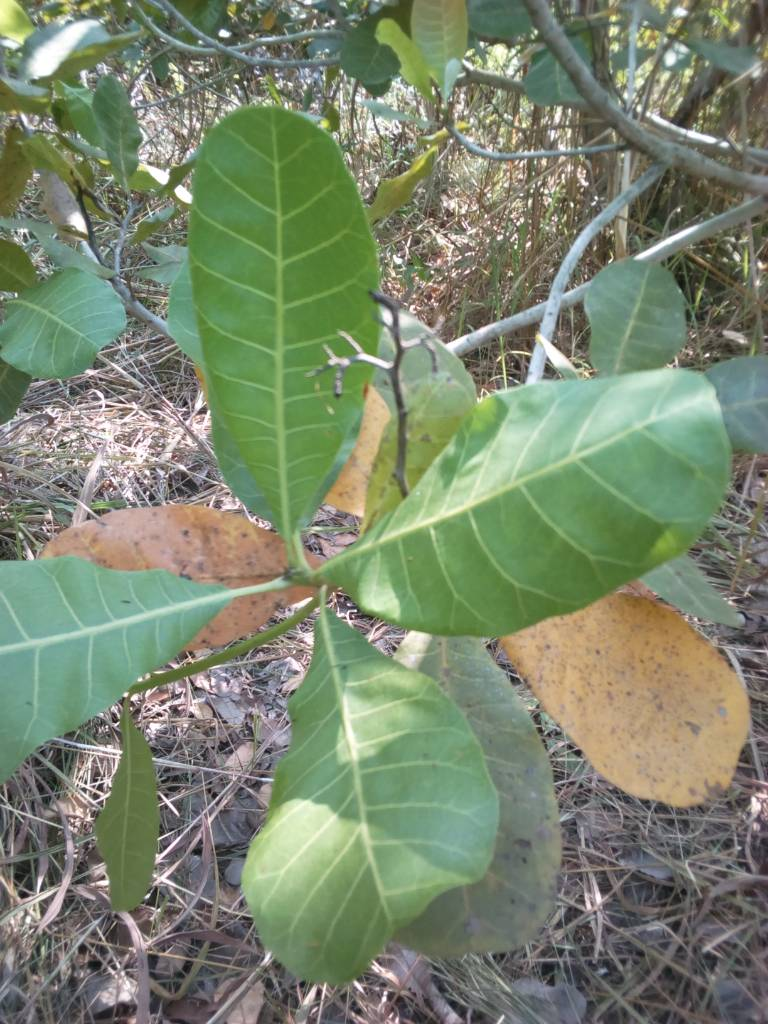Anthracnose: (383, 625, 561, 961), (502, 569, 746, 810), (36, 503, 336, 649)
